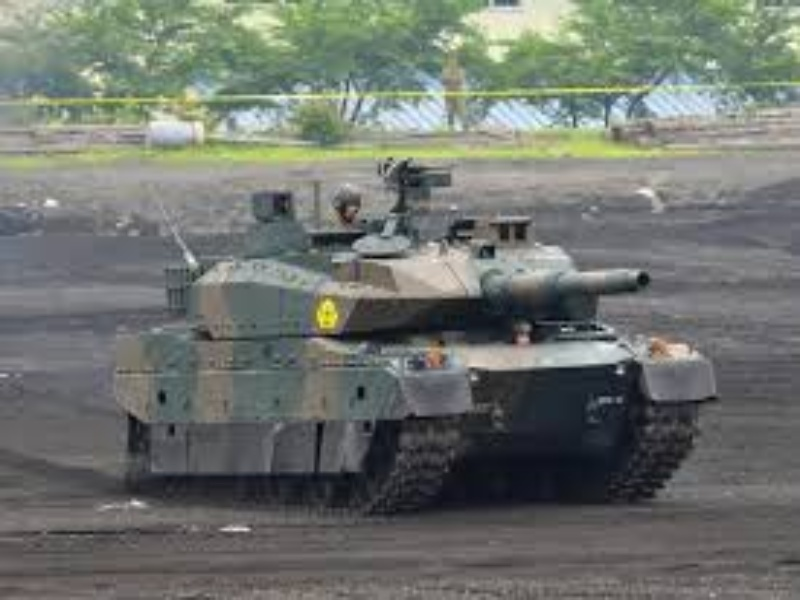tank: (109, 155, 725, 525)
